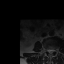CCS_normal: (49, 47, 51, 55)
LFS_normal: (54, 48, 56, 53)
LLS_normal: (51, 48, 54, 53)
RFS_normal: (45, 47, 47, 53)
RLS_normal: (47, 47, 49, 53)
